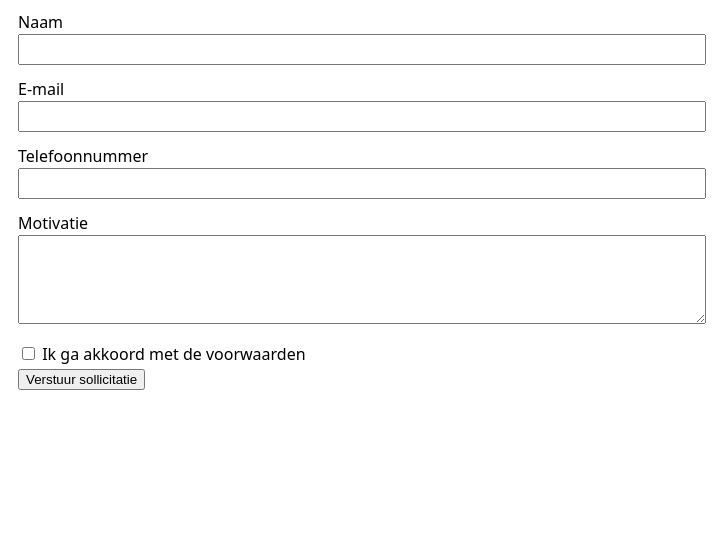
ApplicationForm – validatie › haalt een foutmelding weg nadat het veld is verbeterd
The image size is (723, 547).
Click the button "Verstuur sollicitatie" at (82, 380), box [18,369,145,390]
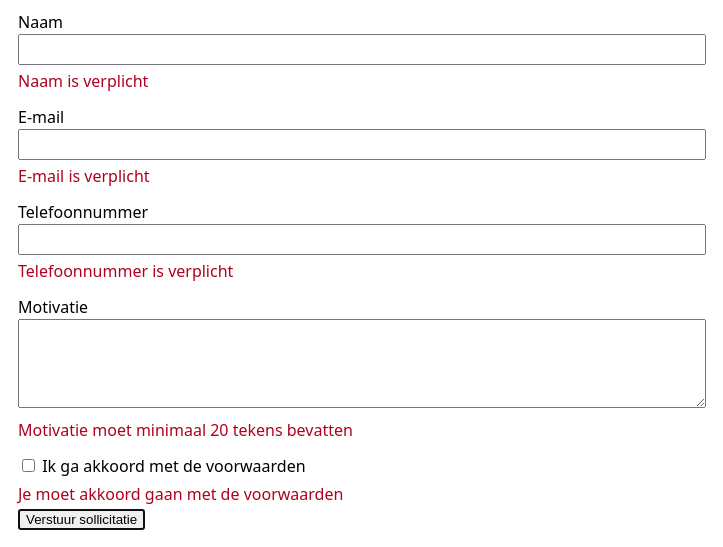
Expected: the text "Naam is verplicht" is shown, [18,70,148,92]
Type "Sanne de Vries" into the field labelled "Naam" at (362, 50), box [18,34,706,65]
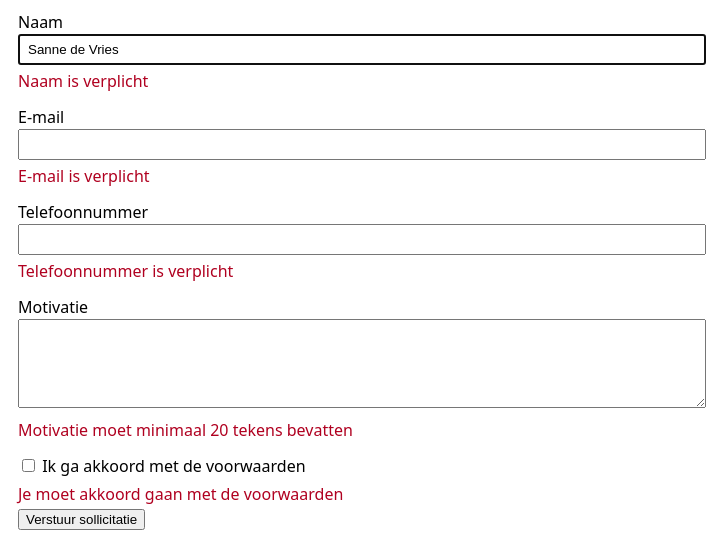
Click the button "Verstuur sollicitatie" at (82, 520), box [18,509,145,530]
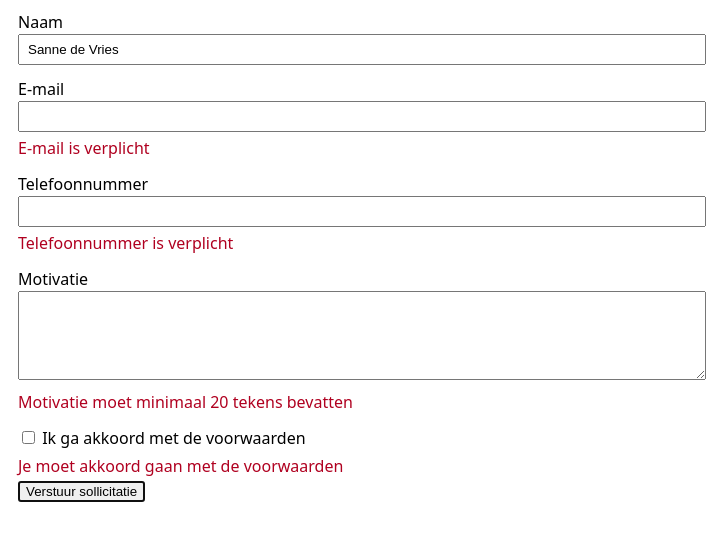
Expected: the text "E-mail is verplicht" is shown, [18,137,150,159]
Expected: the text "Naam is verplicht" is gone
